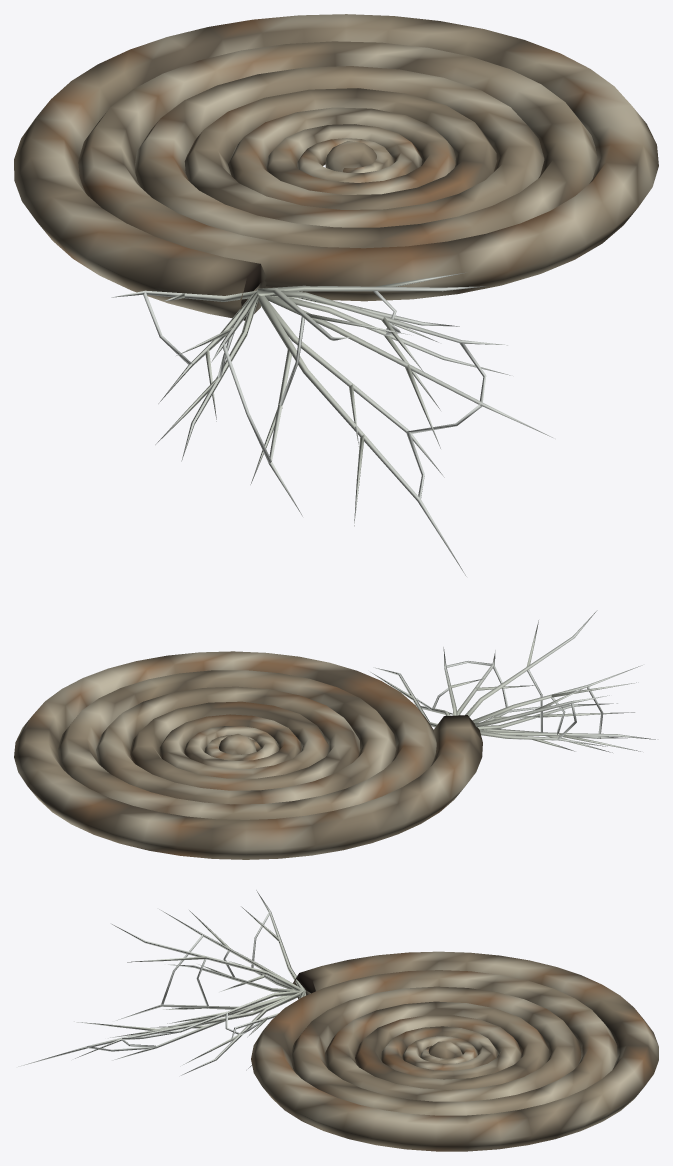
File: Ammodiscus.fbx
3 views of the same model, one above another, from view 1: azimuth 30°, elevation 25°; view 2: azimuth 150°, elevation 25°; view 3: azimuth 270°, elevation 25° (orthographic). The views are drawn at different scales.
Visible parts, largest first — view 1: Ammodiscus; view 2: Ammodiscus; view 3: Ammodiscus.
Part boxes in pixels (box(x1,y1,x2,y2)): Ammodiscus: box(14, 14, 658, 576); Ammodiscus: box(14, 610, 655, 859); Ammodiscus: box(18, 890, 658, 1151).
Bounding box in the file's own units: 0.9795 × 0.2843 × 1.27.
